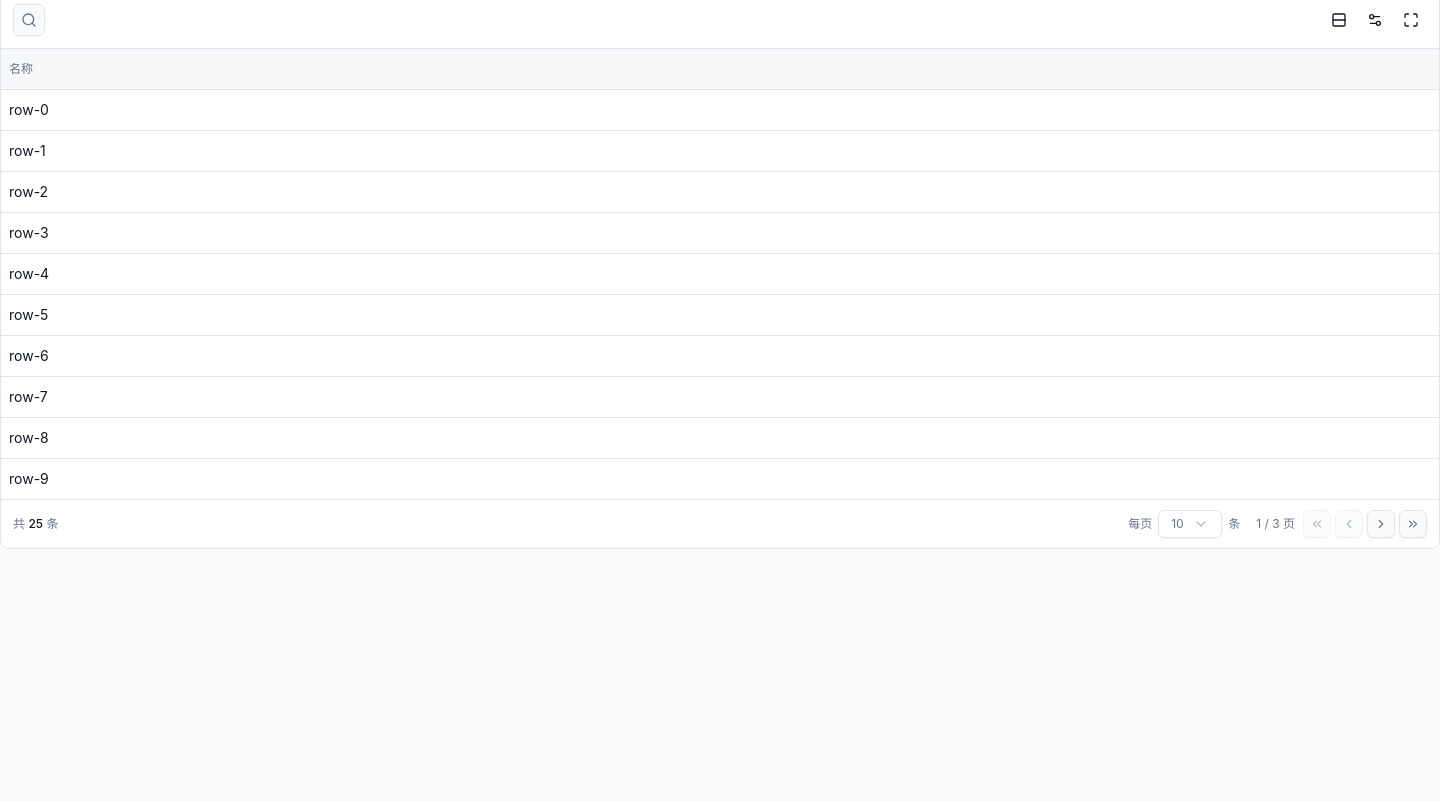
Test case: DataTable 分页 › 本地模式：改每页条数生效
This screenshot has width=1440, height=801.
Step 1. Click the dropdown → (1190, 524), box [1158, 510, 1222, 538]
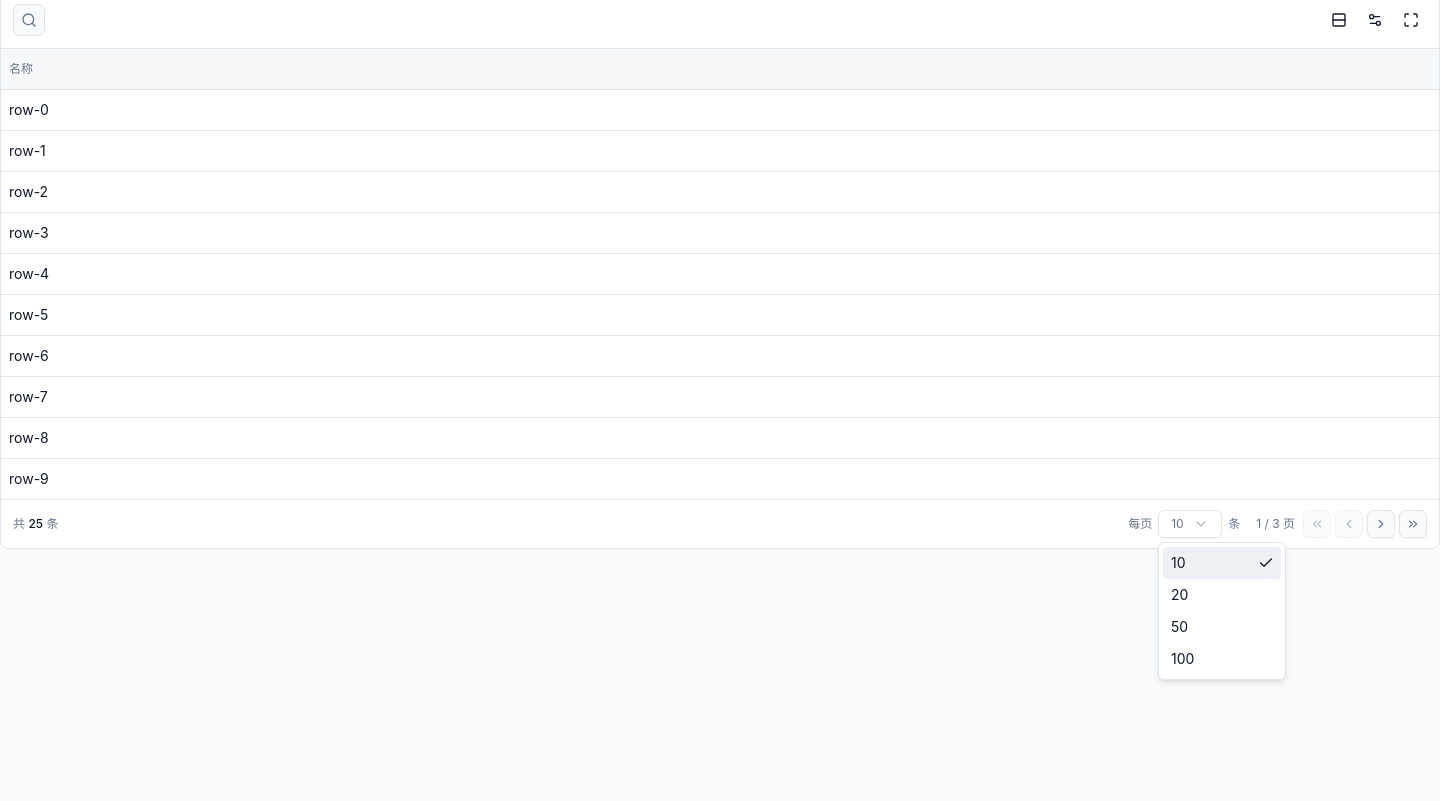
Step 2. Click the option "20" → (1180, 594), box [1171, 586, 1188, 603]
(page scrolled)
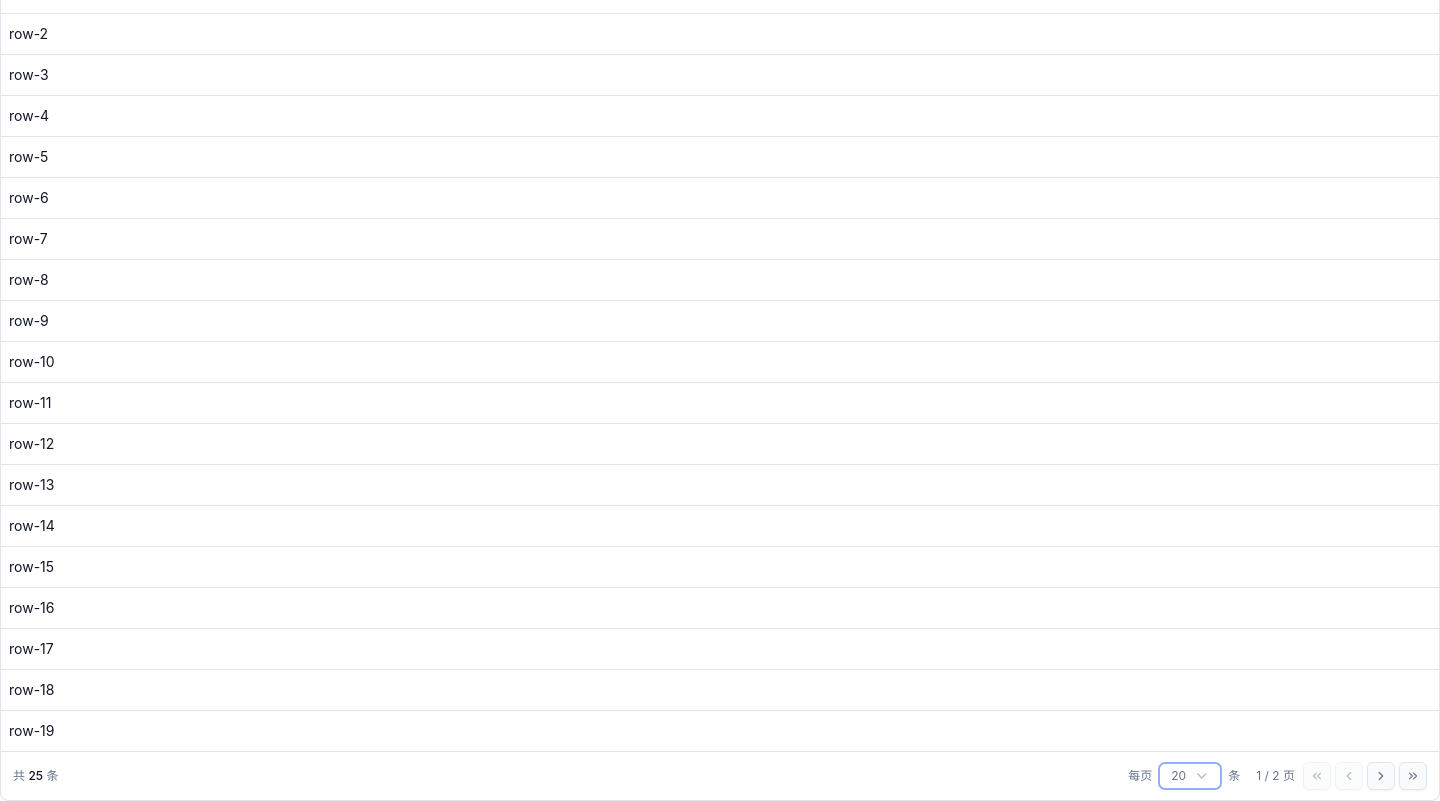
expect the text "1 / 2 页" is shown: met, box [1256, 768, 1295, 784]
expect the text "row-19" is shown: met, box [9, 722, 54, 738]
